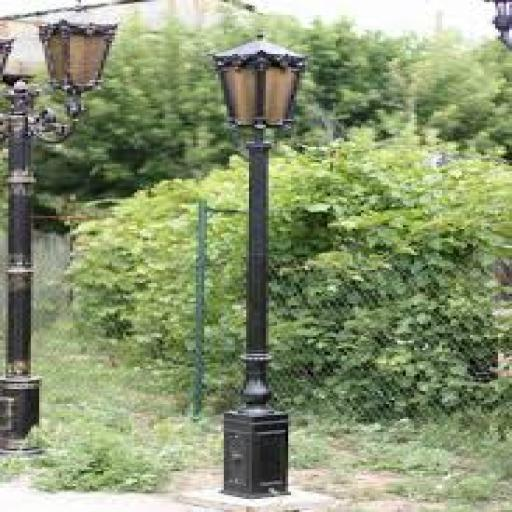Light-pole: (194, 34, 396, 512), (0, 15, 120, 443)
